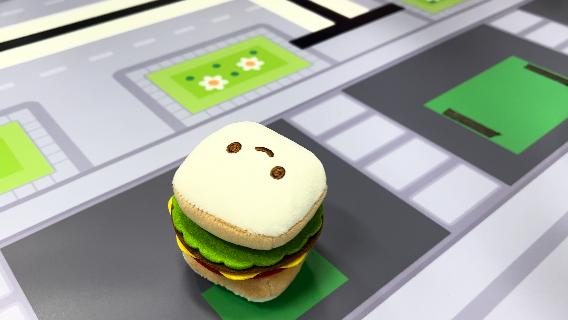sandwich: (166, 120, 330, 302)
